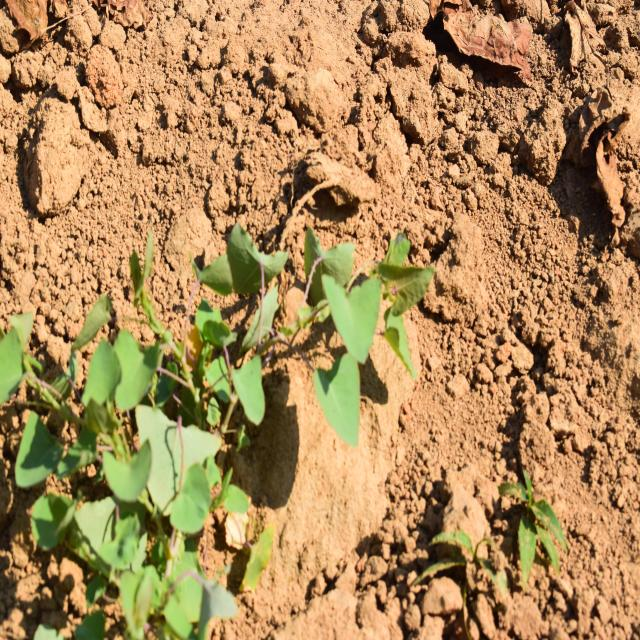Asiatic_Smartweed: (300, 215, 431, 440)
